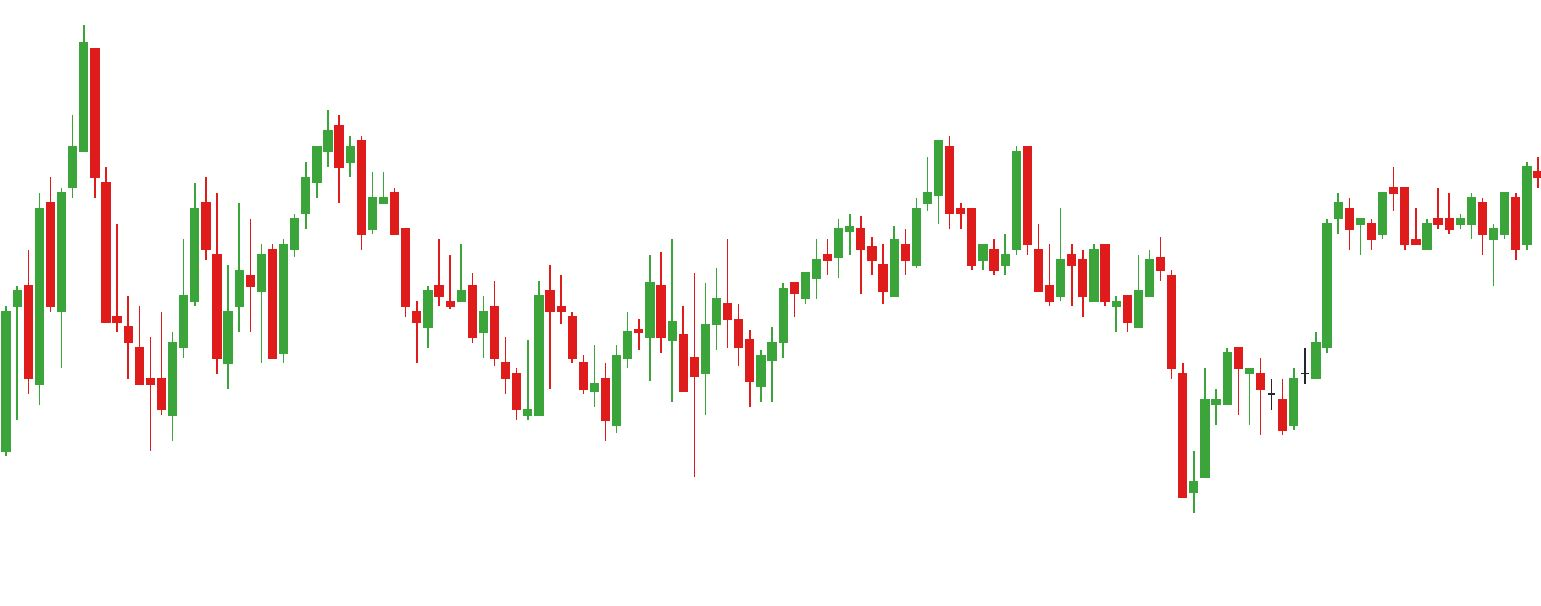buy: (23, 187, 179, 451), (599, 326, 701, 484)
